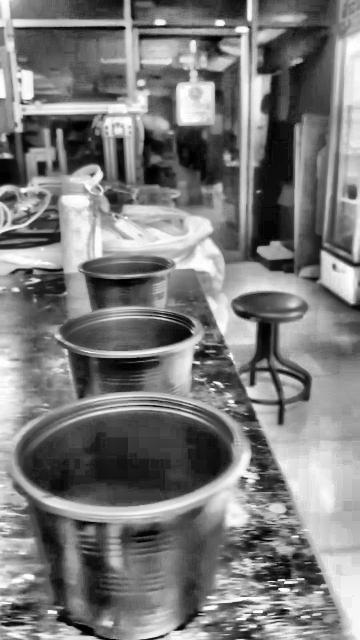pot: (12, 393, 249, 639), (14, 308, 242, 532), (57, 306, 202, 399), (79, 255, 174, 311)
